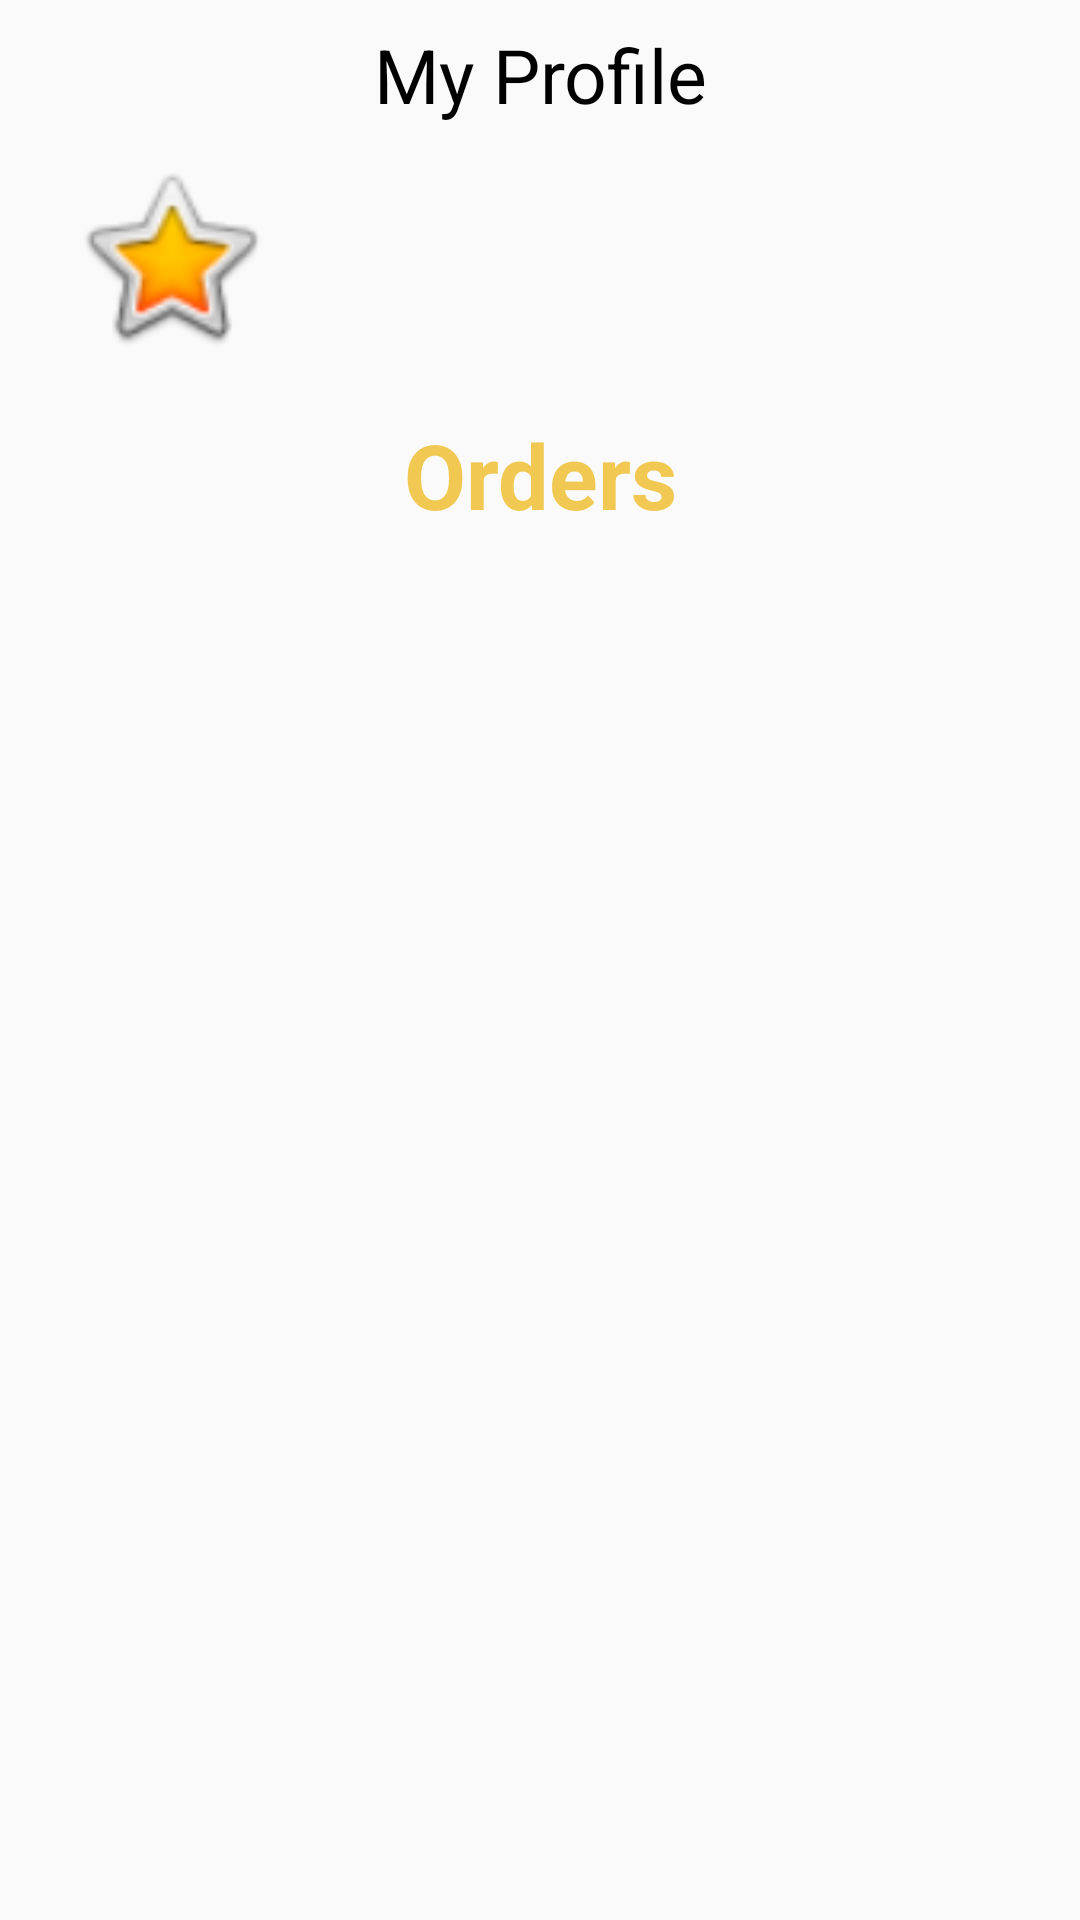

Screen size 1080*1920. Icon name, then its center in pixels as [x,y]:
star on: [172,259]
